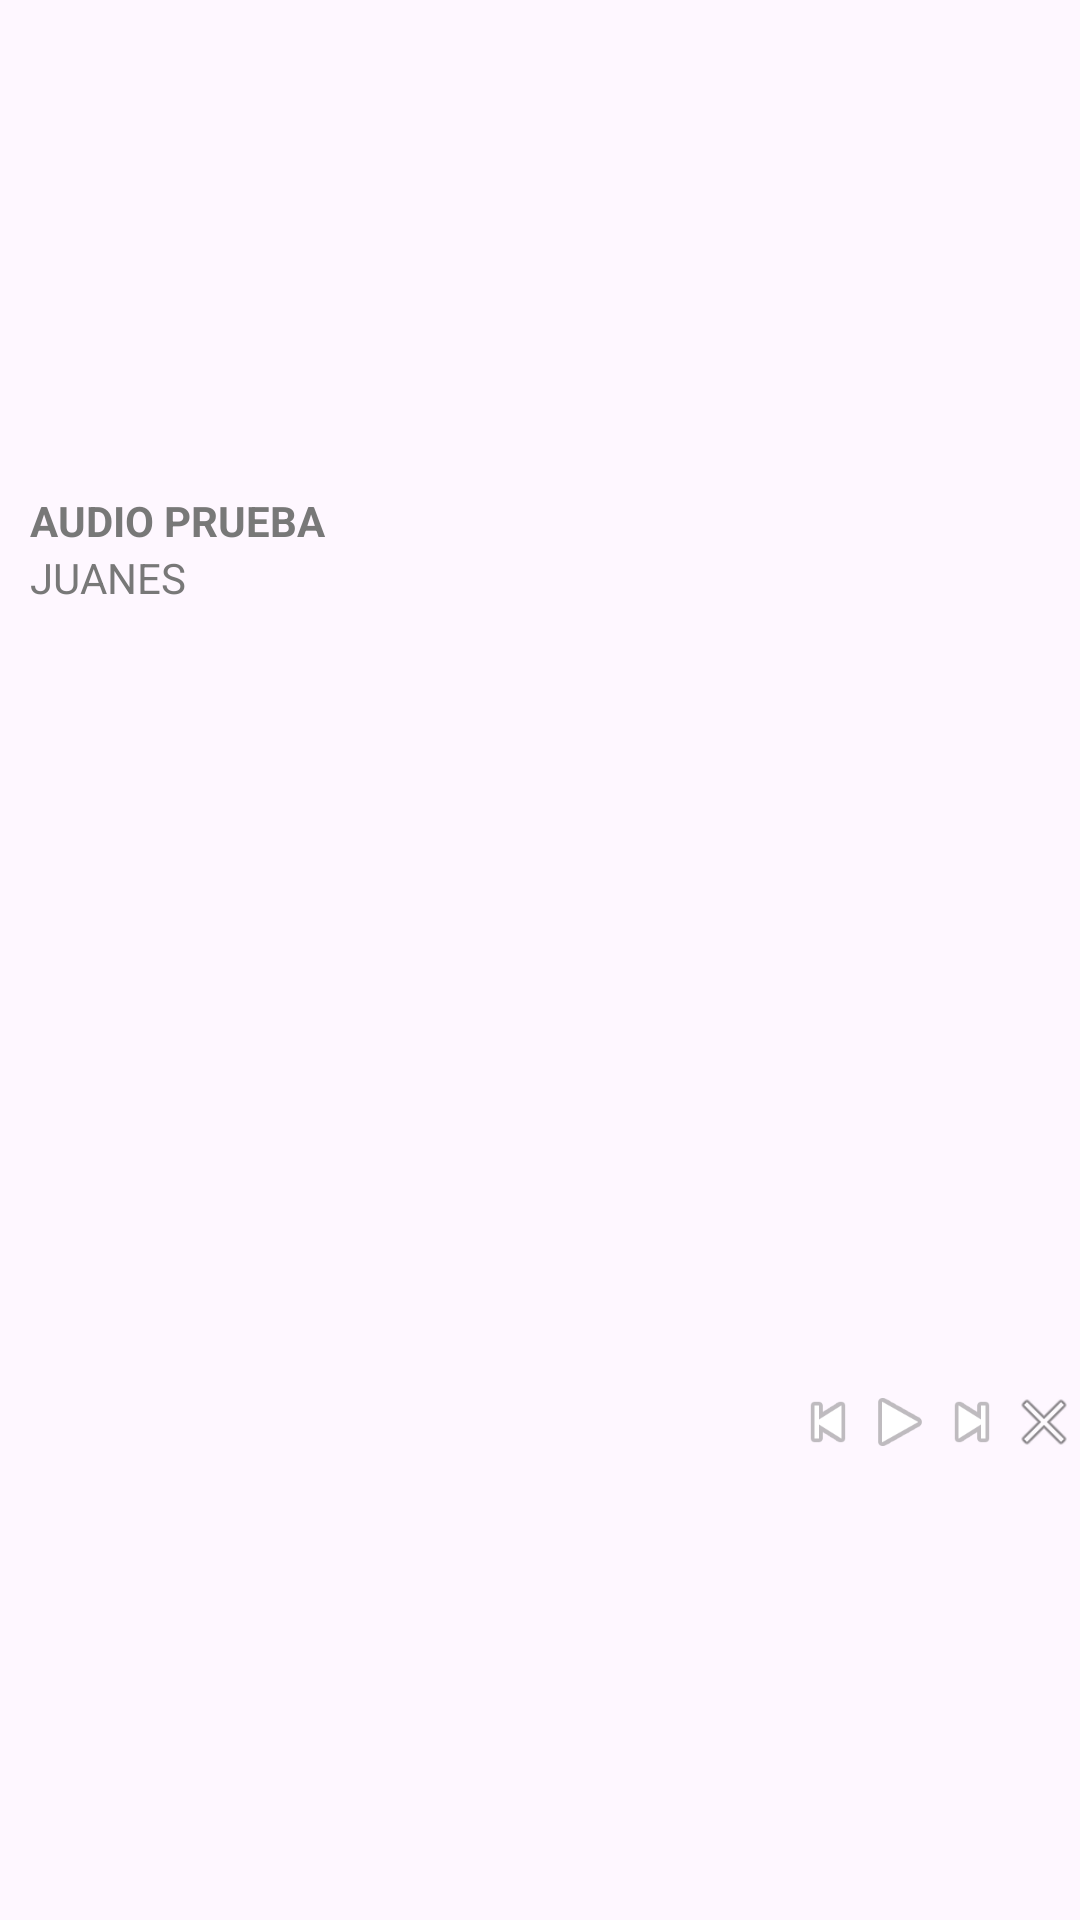

Icon bounding boxes for this 1080w x 1920h phone screenshot, format (x1, y1, x2, y2):
close clear cancel: (1021, 1399, 1067, 1445)
next: (955, 1402, 989, 1442)
play: (878, 1398, 922, 1446)
previous: (811, 1402, 845, 1442)
